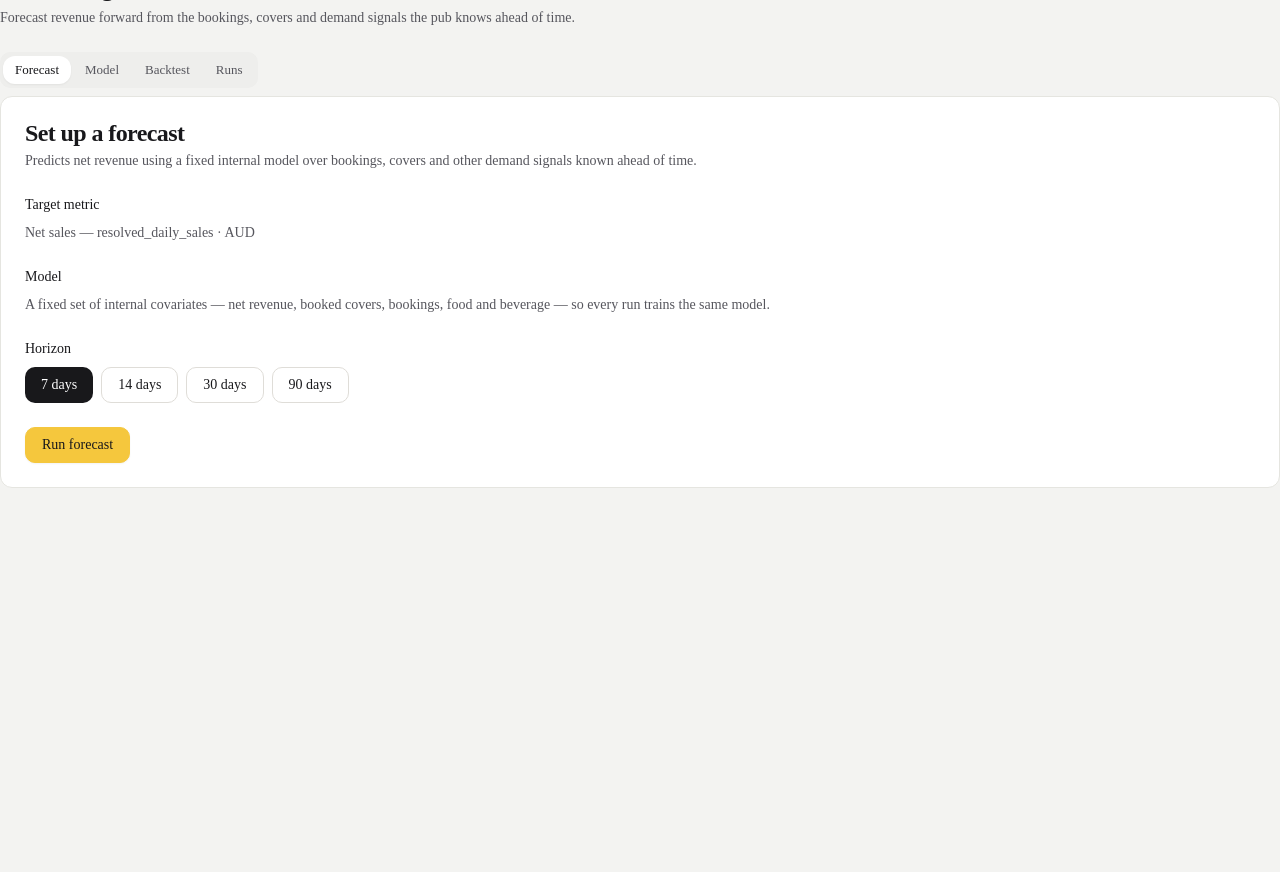
ForecastingPage › explains an unavailable split without displaying an empty split chart
Expected: the text "Net sales — resolved_daily_sales · AUD" is shown, [25,225,255,240]
Click the button "Run forecast": (78, 445) [25,427,130,463]
(page scrolled)
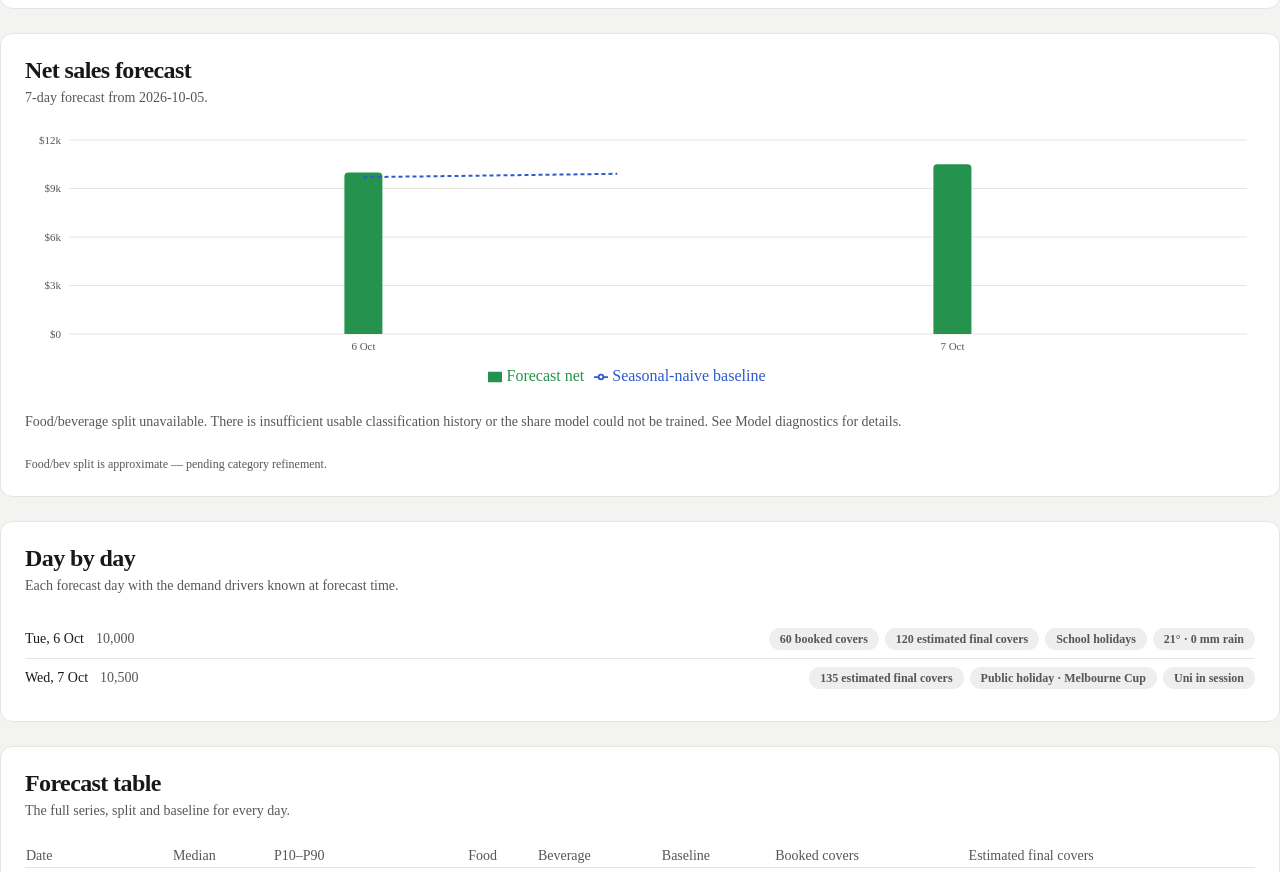
Expected: the picture with test id "forecast-vs-baseline-chart" is shown, [25,132,1255,388]
Expected: the text "Food/beverage split unavailable" is shown, [25,414,902,429]
